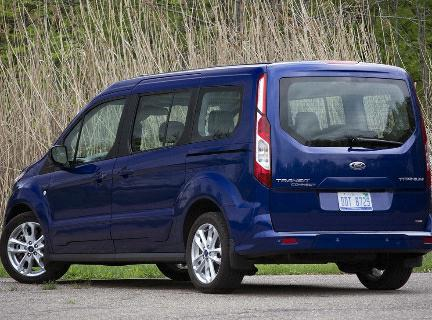福特-Transit: (8, 60, 432, 295)
